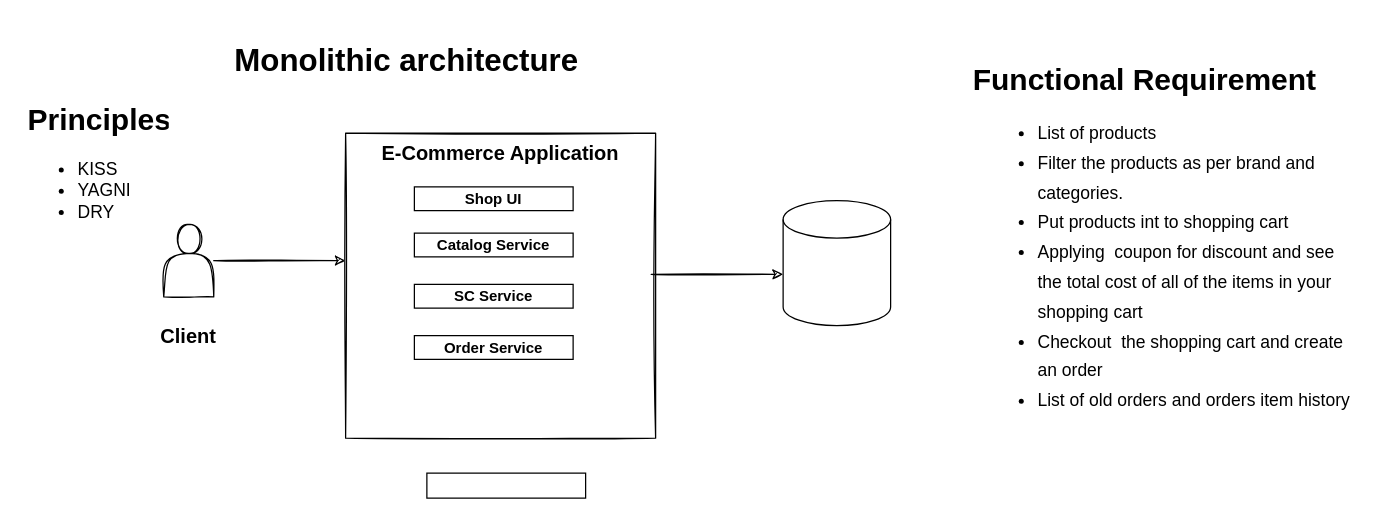
The diagram is 1376 pixels wide and 520 high, and some of its shapes have lost their labels. Here are the shapes that lost their labels. From the top down, the centre of each, then its label:
At point 836,262: "RDBMS".
At point 506,485: "Discount Service".
